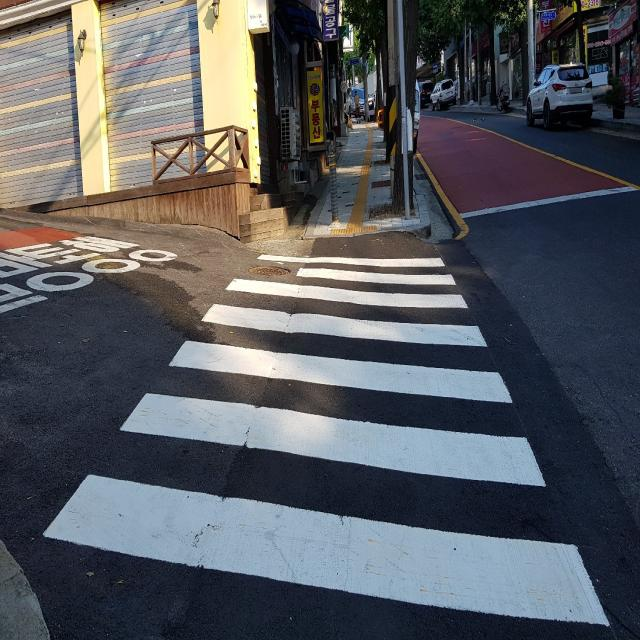횡단보도: (38, 244, 614, 632)
